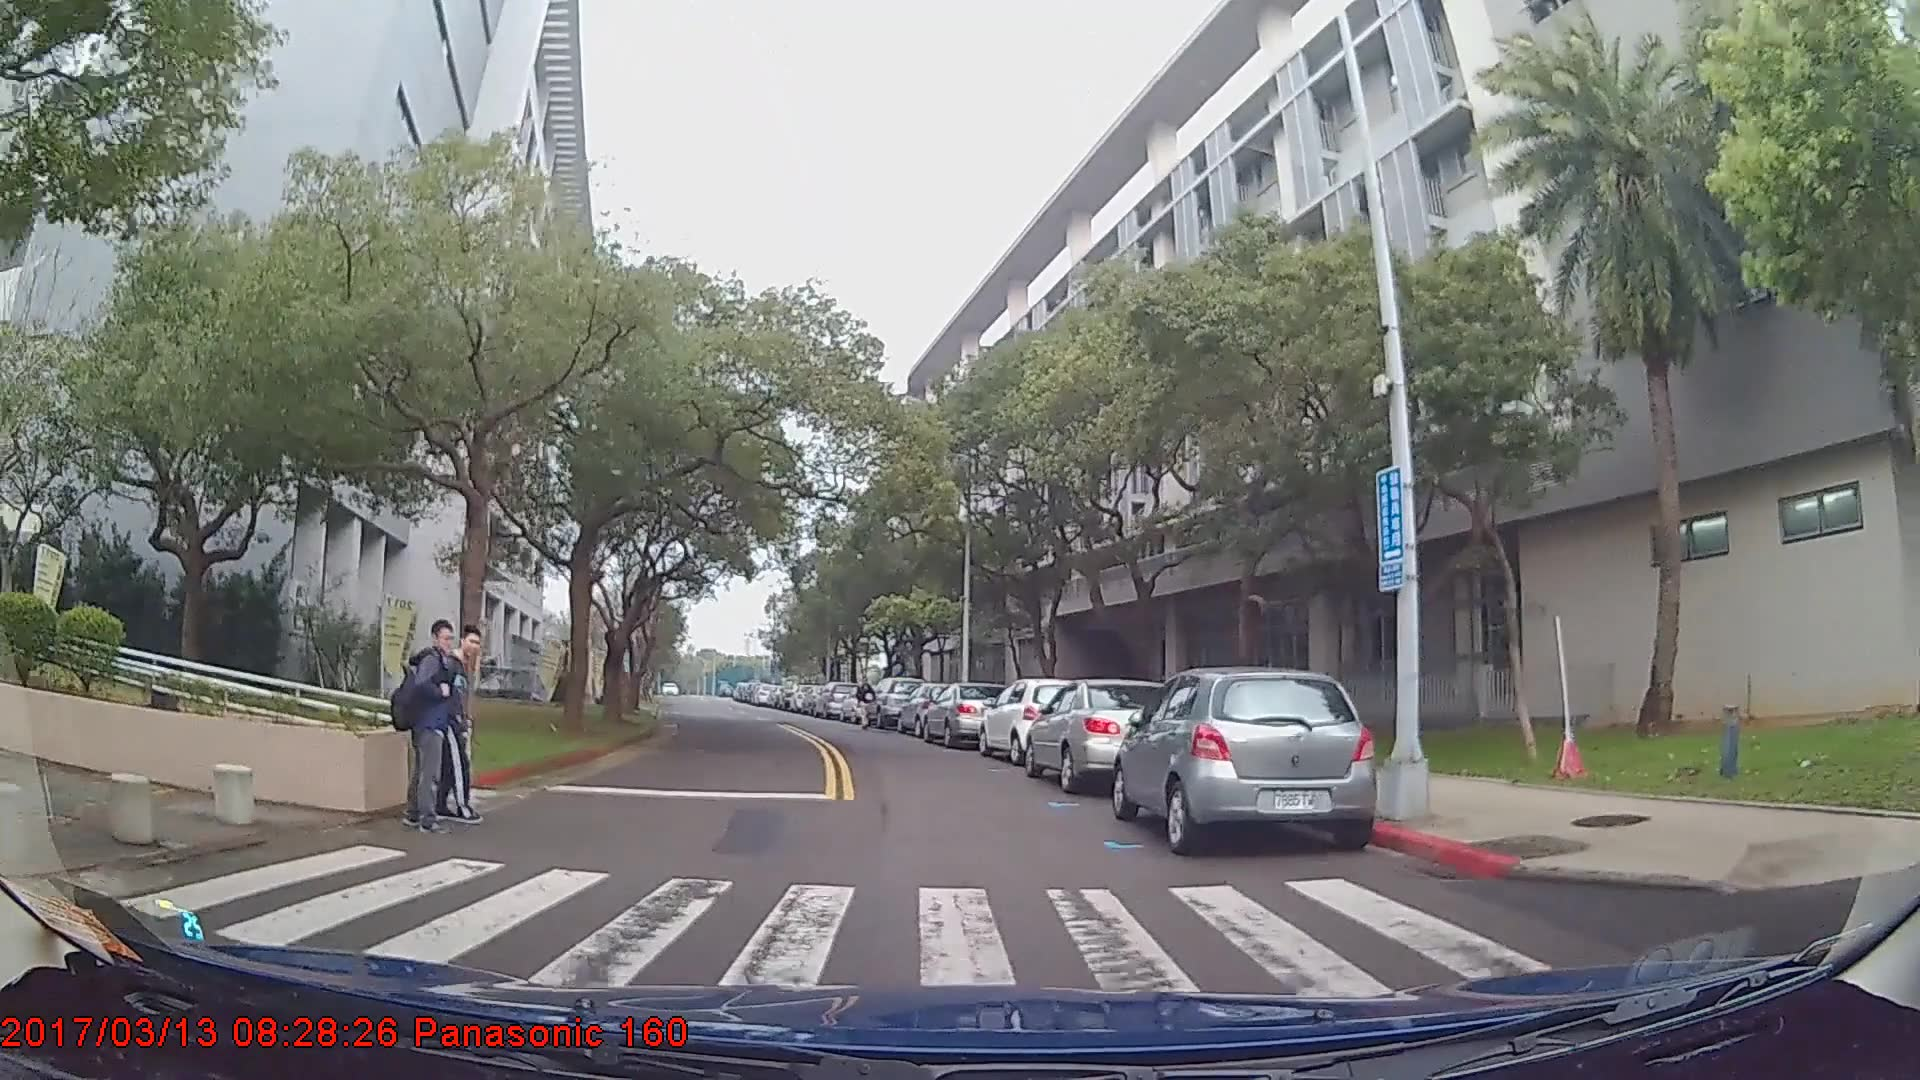pedestrian: (379, 624, 465, 841), (405, 630, 496, 836), (857, 677, 879, 734)
vehicle: (1114, 664, 1381, 858), (1023, 677, 1189, 794), (978, 678, 1087, 766), (922, 680, 1013, 749), (897, 680, 969, 738), (861, 674, 930, 728), (811, 679, 866, 722)
